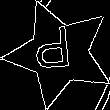P_S: (38, 27, 80, 80)
